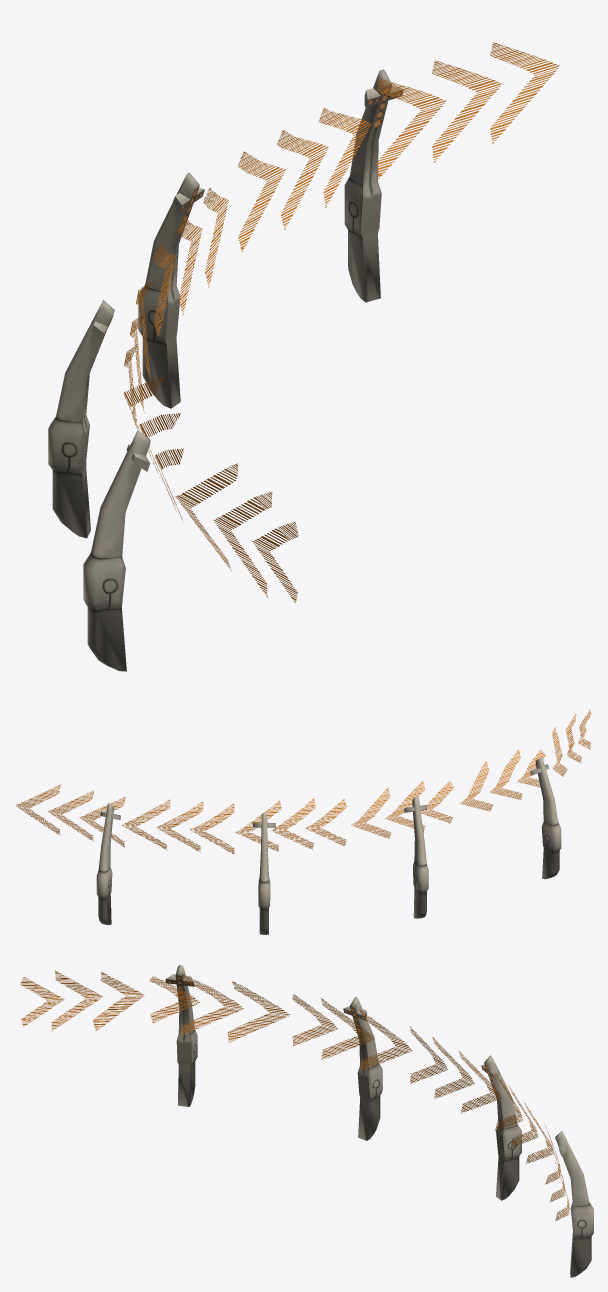
The model's file is panneau_turn_short.fbx.
The picture shows the model from 3 angles, top to bottom: view 1: azimuth 30°, elevation 25°; view 2: azimuth 150°, elevation 25°; view 3: azimuth 270°, elevation 25°; orthographic projection. The views are drawn at different scales.
Parts seen in each view (by area): view 1: panneau_turn_short1; view 2: panneau_turn_short1; view 3: panneau_turn_short1.
Boxes of the visible parts, x1,y1,x2,y2 form: panneau_turn_short1: [48, 42, 559, 671]; panneau_turn_short1: [15, 710, 591, 934]; panneau_turn_short1: [20, 965, 593, 1277].
Bounding box in the file's own units: 35.78 × 11.02 × 37.22.
